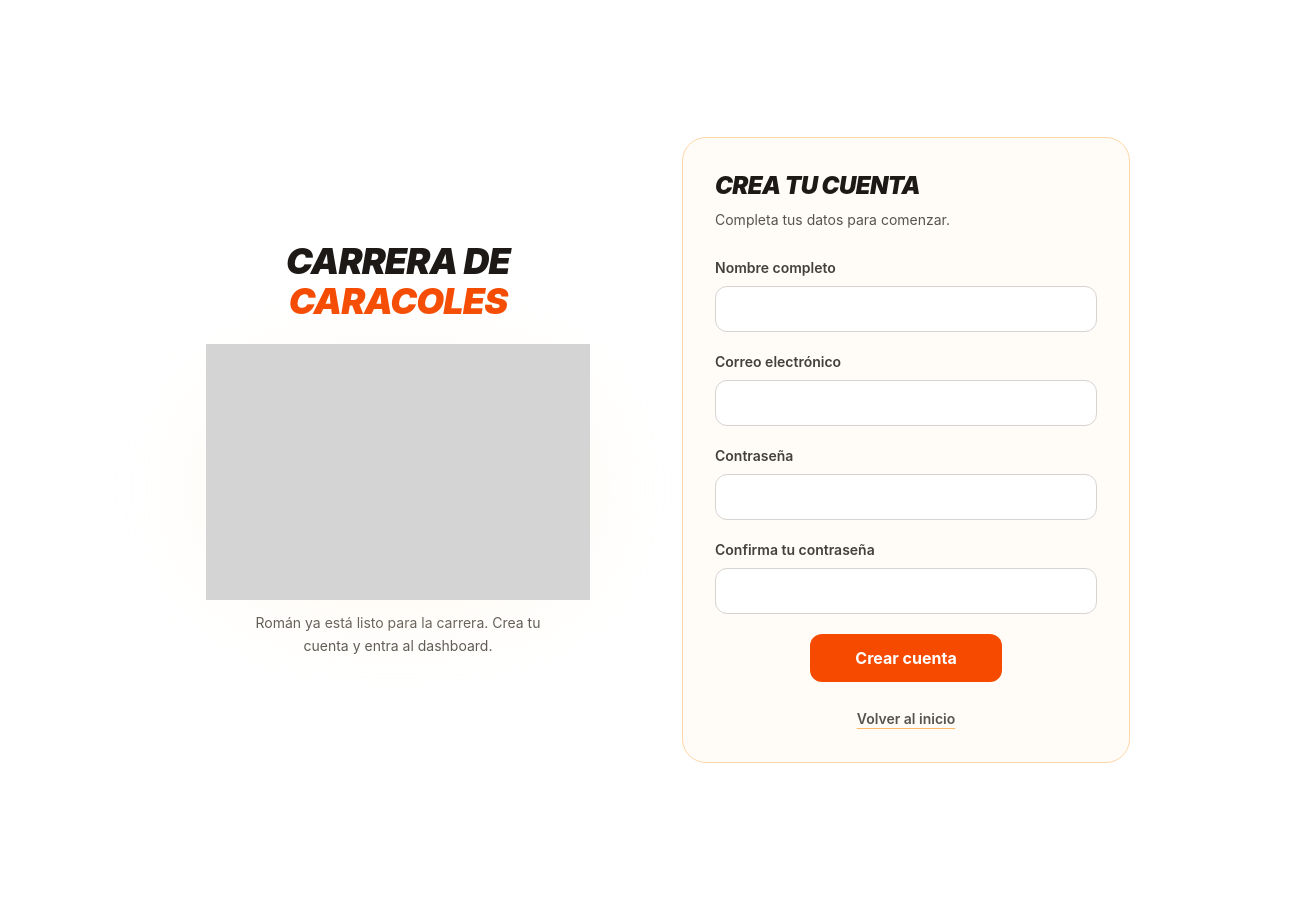
Registro de usuario › muestra el mensaje del servidor ante un 422 y permite reintentar
The image size is (1292, 900).
Type "Alan Pérez" into the field labelled "Nombre completo" at (906, 309), box [715,286,1097,332]
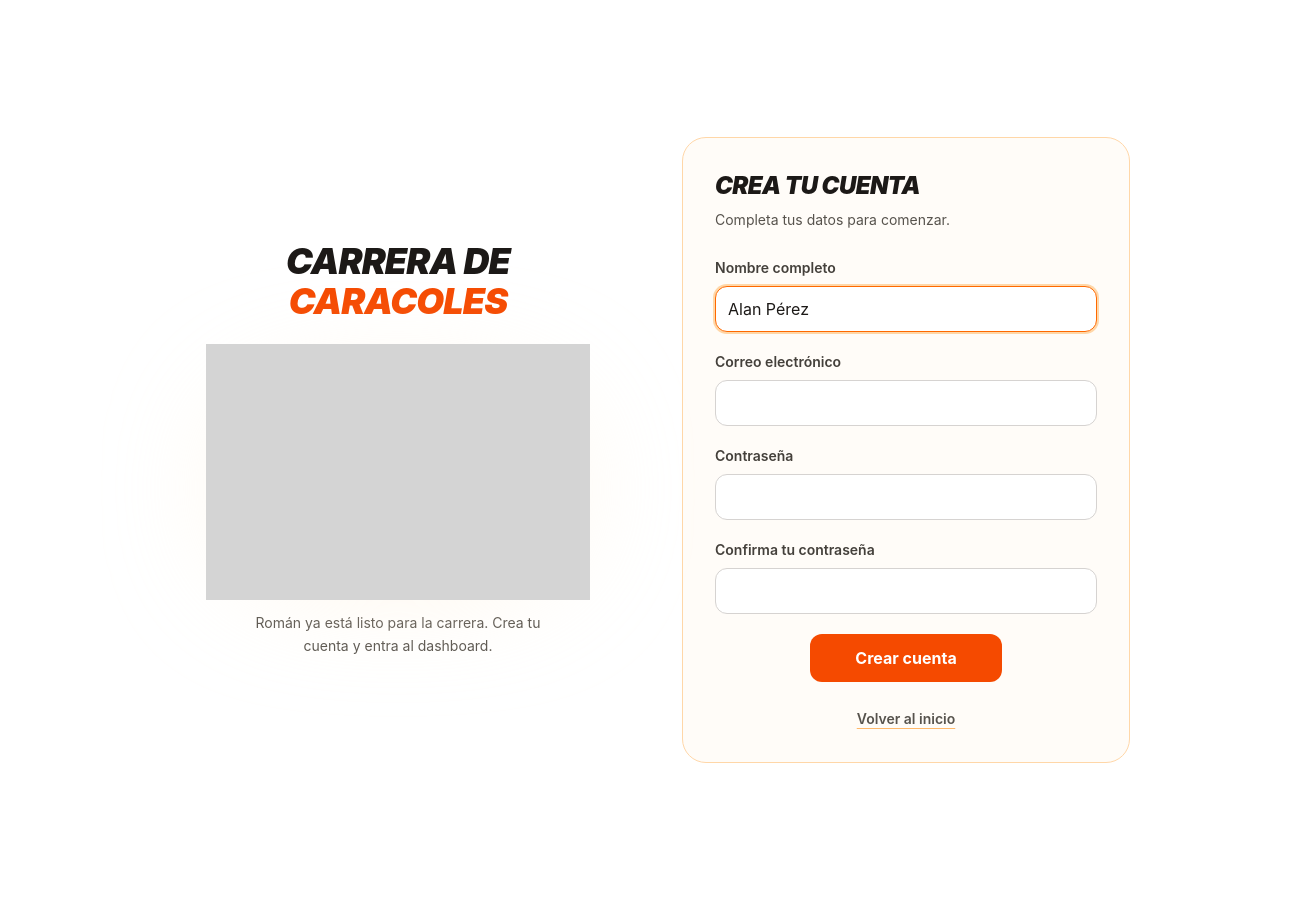
Type "alan@example.com" into the field labelled "Correo electrónico" at (906, 403), box [715,380,1097,426]
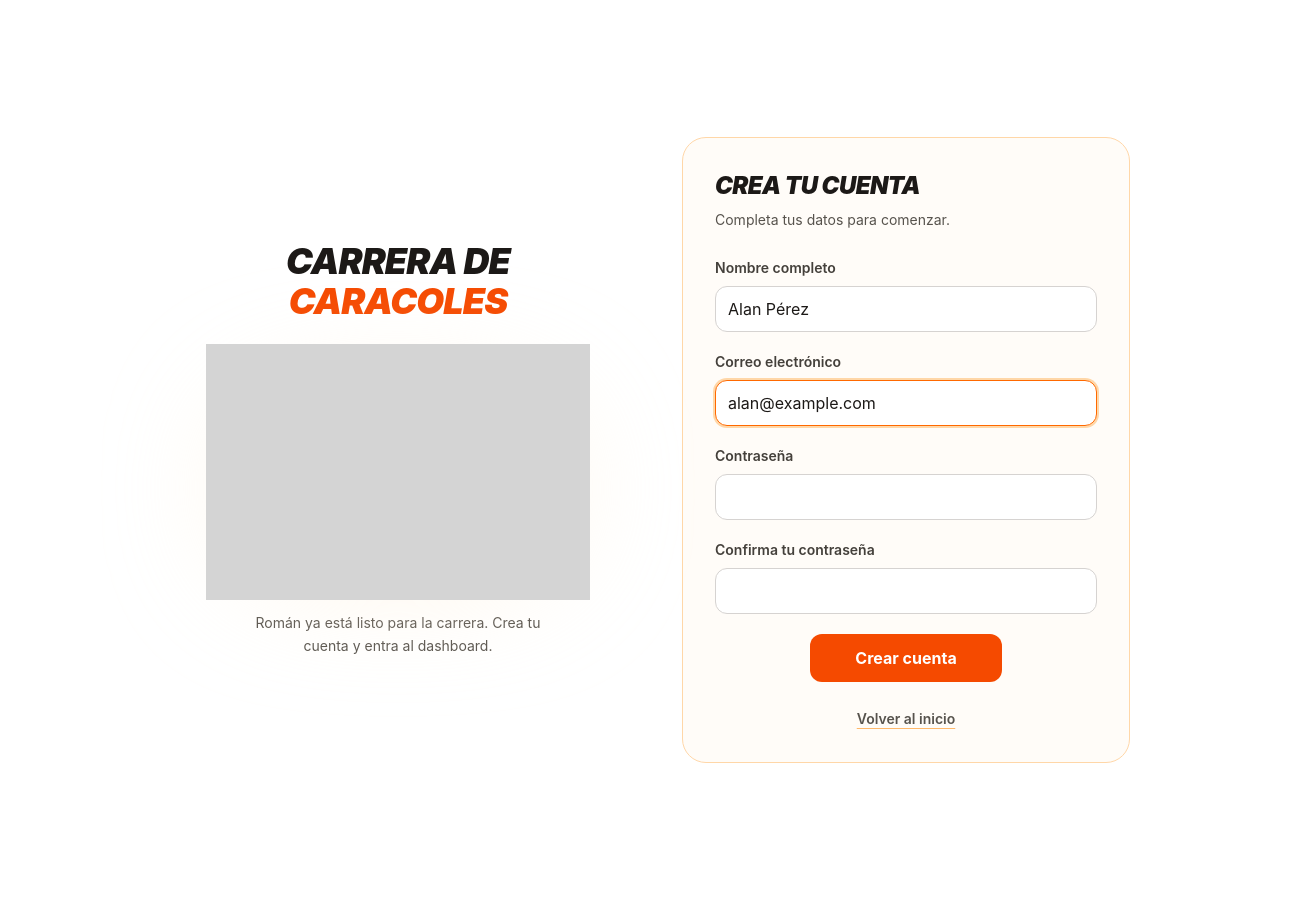
Type "Password123!" into the password field labelled "Contraseña" at (906, 497), box [715,474,1097,520]
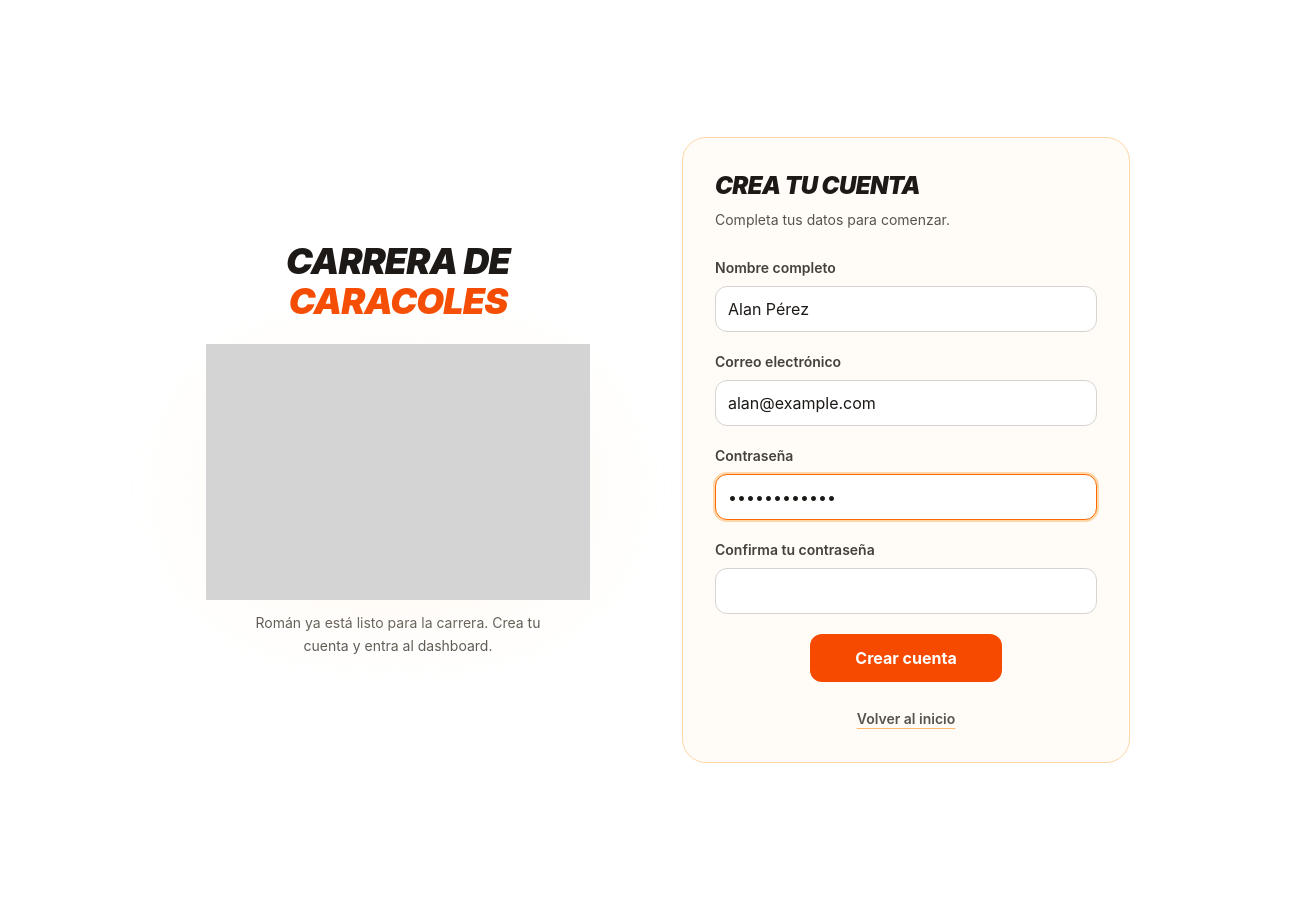
Type "Password123!" into the password field labelled "Confirma tu contraseña" at (906, 591), box [715,568,1097,614]
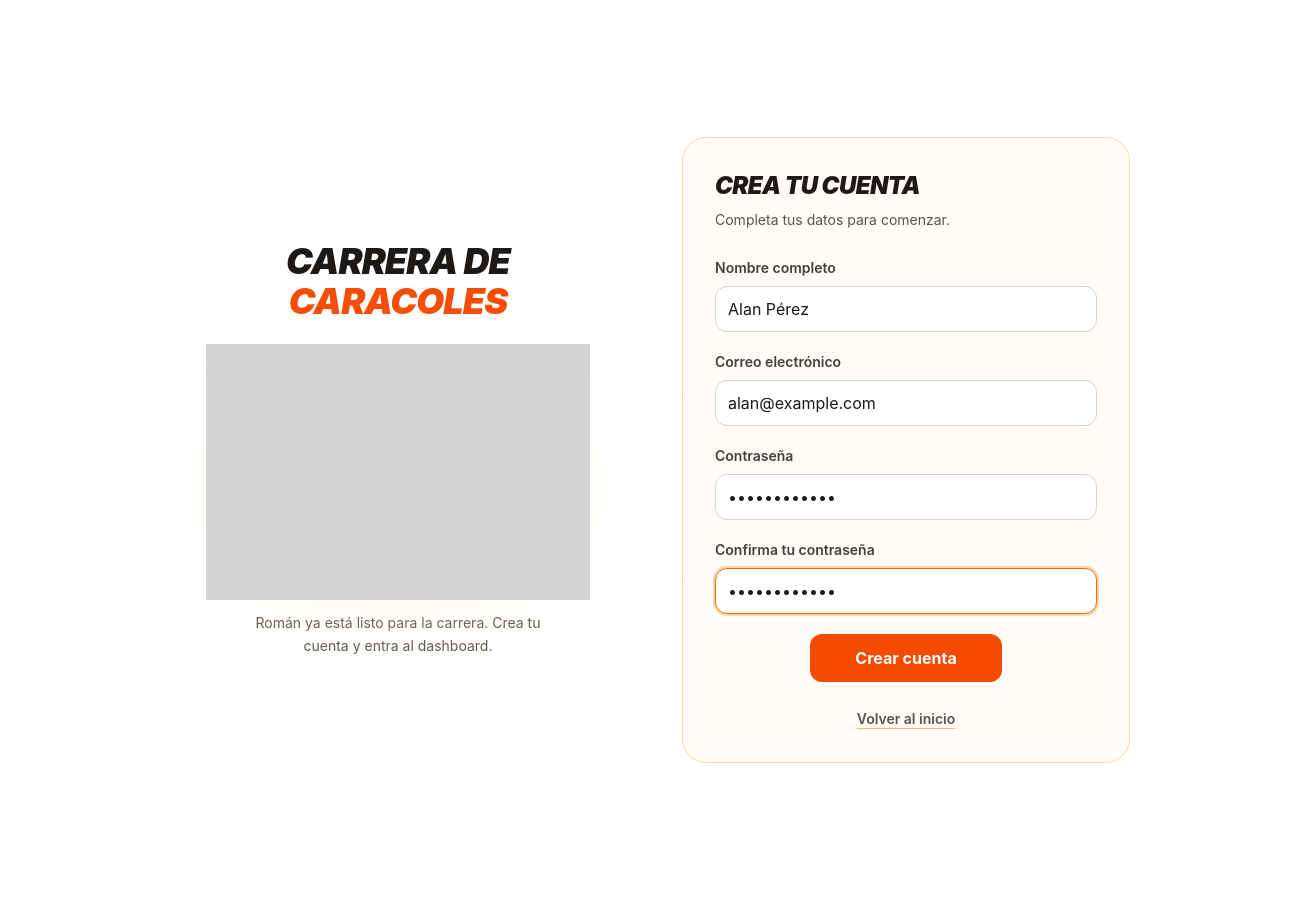
Click the button "Crear cuenta" at (906, 658), box [810,634,1002,682]
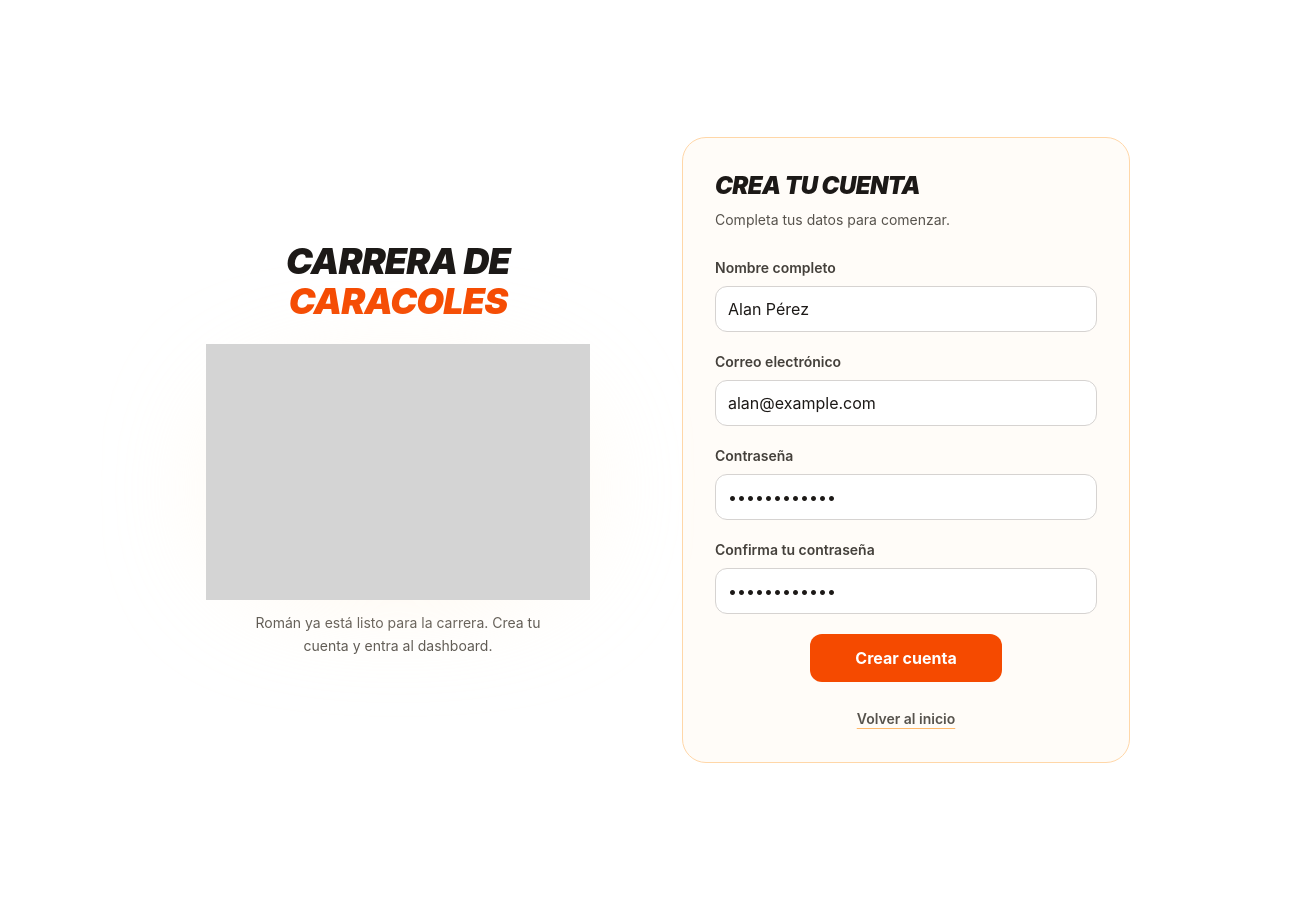
Click the button "Crear cuenta" at (906, 658), box [810,634,1002,682]
(page scrolled)
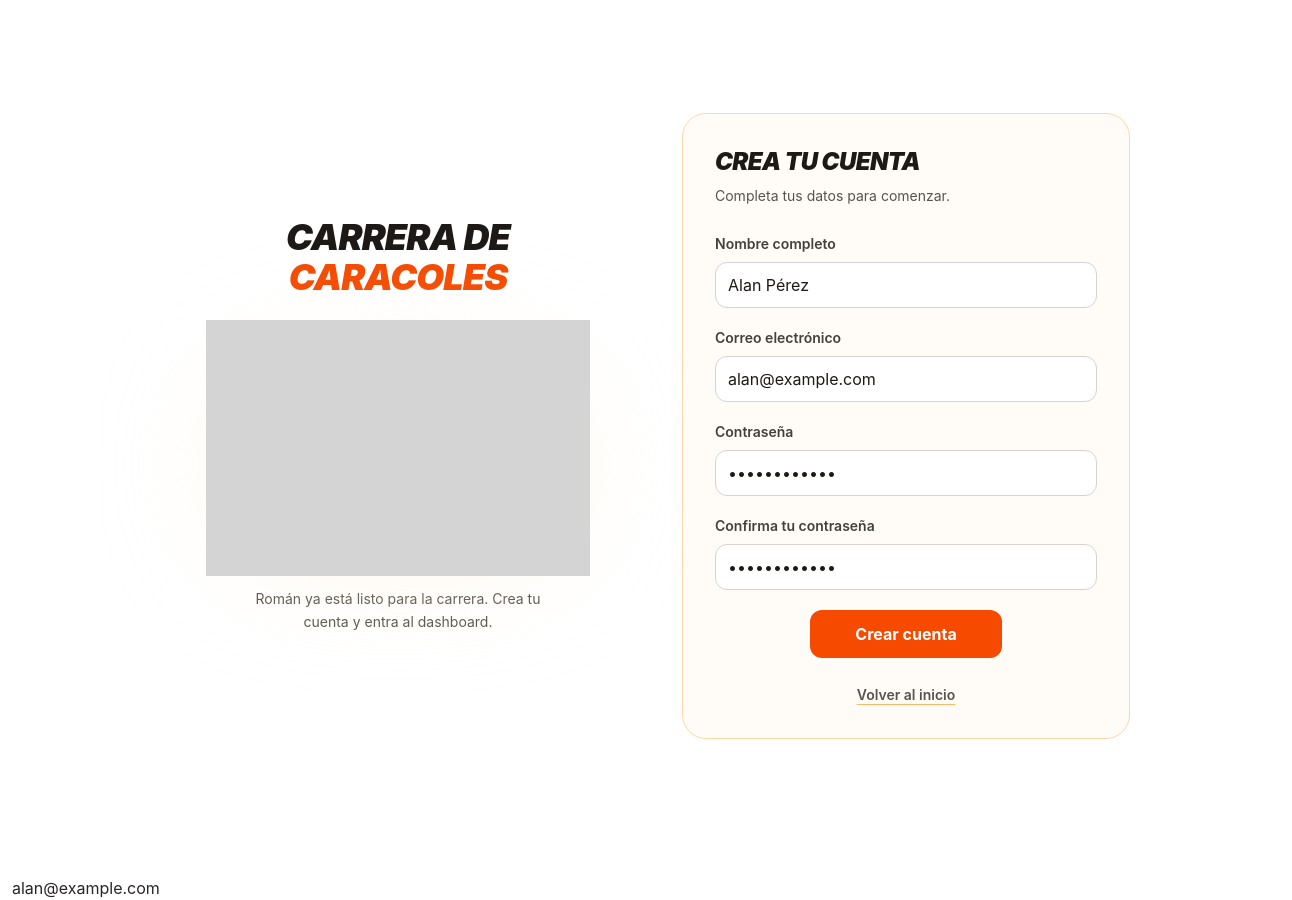
Result: the text named "Usuario de la sesión" reads "alan@example.com" at [12,878,160,898]
